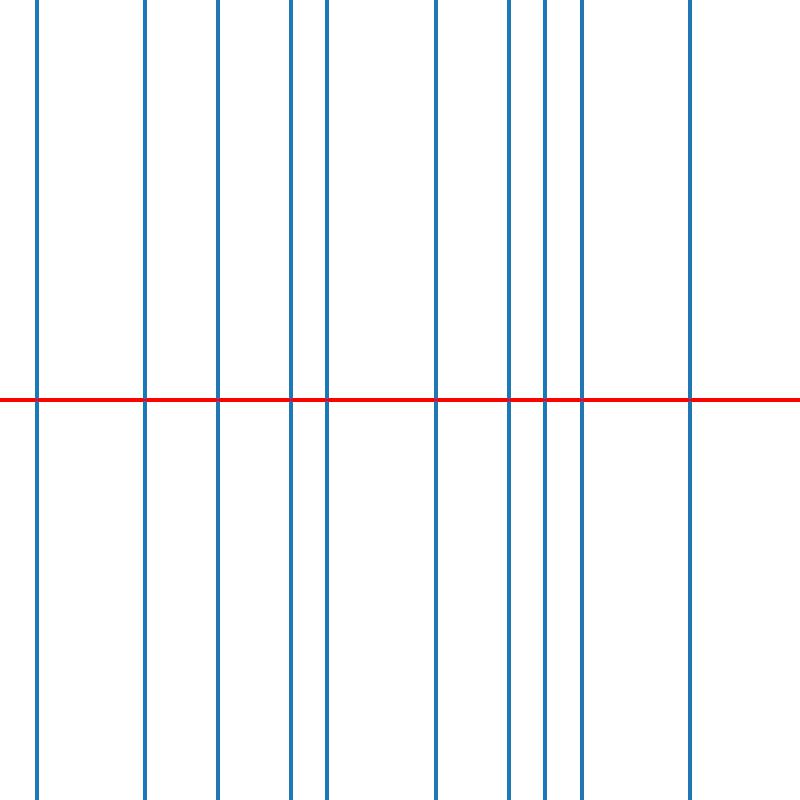root: (432, 396, 440, 404), (541, 396, 549, 404), (32, 396, 40, 404), (141, 396, 149, 404), (505, 396, 512, 404), (214, 396, 221, 404), (323, 396, 330, 404), (287, 396, 294, 404), (687, 396, 694, 404), (578, 396, 585, 404)
